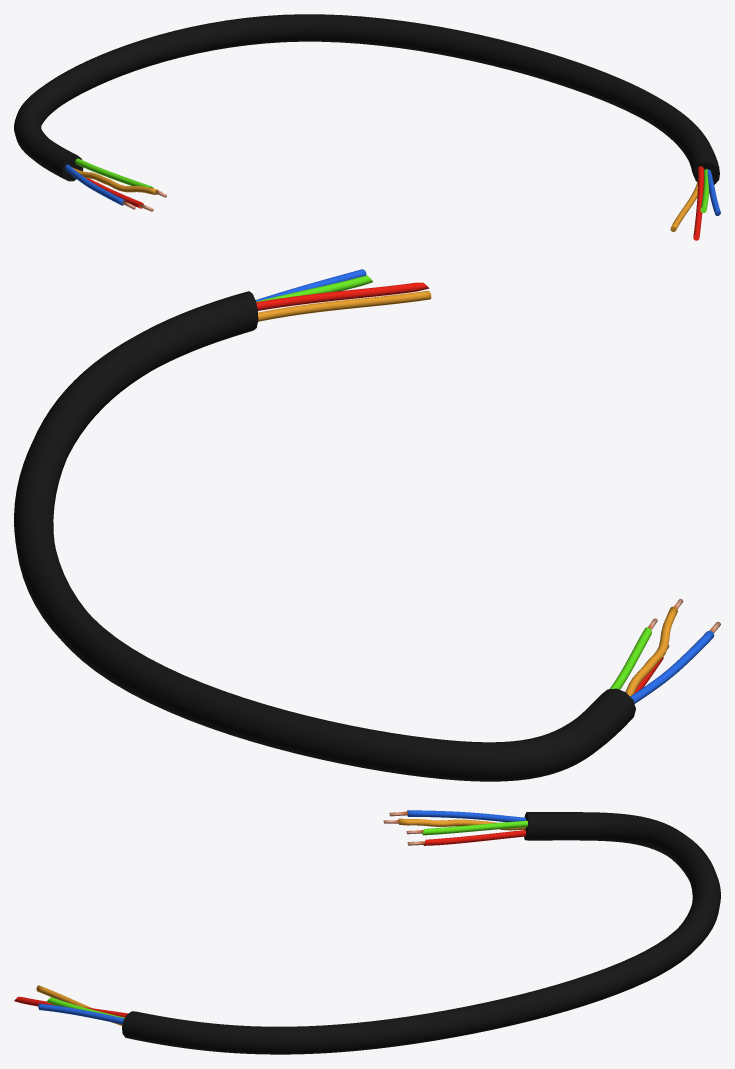
File: kabel_REV1.glb
The picture shows the model from 3 angles, top to bottom: view 1: azimuth 30°, elevation 25°; view 2: azimuth 150°, elevation 25°; view 3: azimuth 270°, elevation 25°; orthographic projection. The views are drawn at different scales.
Parts seen in each view (by area): view 1: NurbsCurve.CBL.BIG, NurbsCurve.CBL.002, NurbsCurve.CBL.001, NurbsCurve.CBL.GREEN, NurbsCurve.CBL.RED; view 2: NurbsCurve.CBL.BIG, NurbsCurve.CBL.002, NurbsCurve.CBL.RED, NurbsCurve.CBL.001, NurbsCurve.CBL.GREEN; view 3: NurbsCurve.CBL.BIG, NurbsCurve.CBL.001, NurbsCurve.CBL.RED, NurbsCurve.CBL.GREEN, NurbsCurve.CBL.002.
Boxes of the visible parts, x1,y1,x2,y2 form: NurbsCurve.CBL.BIG: (14,14,719,184); NurbsCurve.CBL.002: (72,167,697,231); NurbsCurve.CBL.001: (65,164,720,215); NurbsCurve.CBL.GREEN: (75,158,709,212); NurbsCurve.CBL.RED: (86,166,703,240); NurbsCurve.CBL.BIG: (14,291,635,781); NurbsCurve.CBL.002: (258,291,677,696); NurbsCurve.CBL.RED: (256,282,663,693); NurbsCurve.CBL.001: (255,269,714,703); NurbsCurve.CBL.GREEN: (256,275,651,689); NurbsCurve.CBL.BIG: (122,812,720,1054); NurbsCurve.CBL.001: (38,810,525,1024); NurbsCurve.CBL.RED: (14,830,525,1017); NurbsCurve.CBL.GREEN: (47,820,527,1018); NurbsCurve.CBL.002: (36,818,525,1025).
Bounding box in the file's own units: 1.47 × 0.1446 × 1.74.
6 materials, 1 textured.
